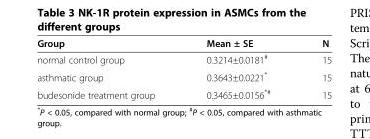table: (36, 37, 331, 100)
table column: (36, 37, 180, 100), (180, 37, 295, 100), (295, 37, 331, 100)
table column header: (36, 37, 331, 50)
table row: (36, 67, 331, 85), (36, 50, 331, 67), (36, 85, 331, 100), (36, 37, 331, 50)
